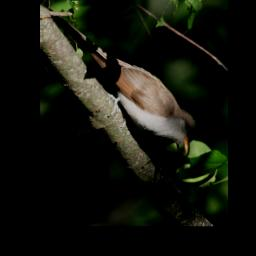Cuckoo: (48, 9, 197, 158)
